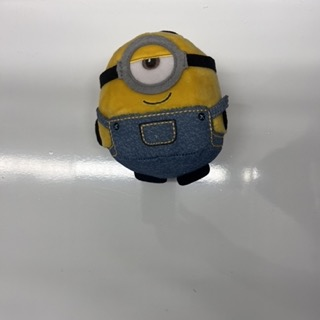minion: (95, 31, 230, 186)
